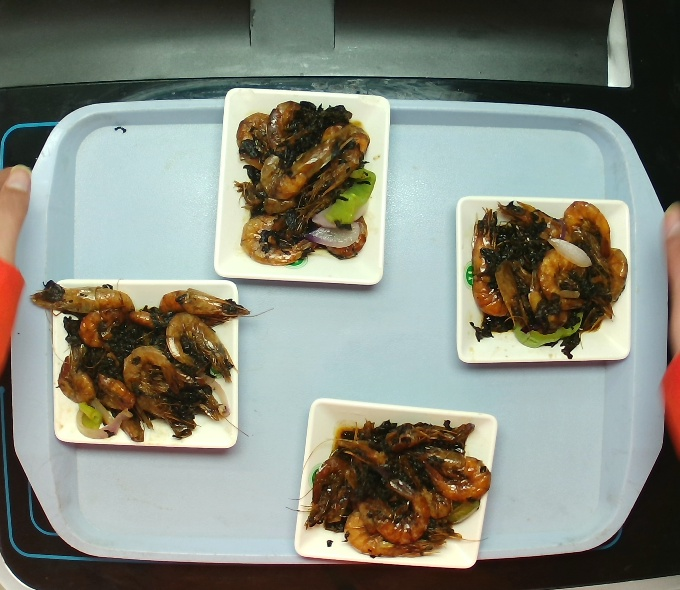wcq-GanCaiXia: (47, 275, 243, 444), (295, 417, 497, 559), (471, 192, 624, 359), (235, 97, 374, 271)
